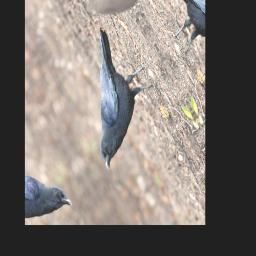Crow: (54, 12, 172, 172)
